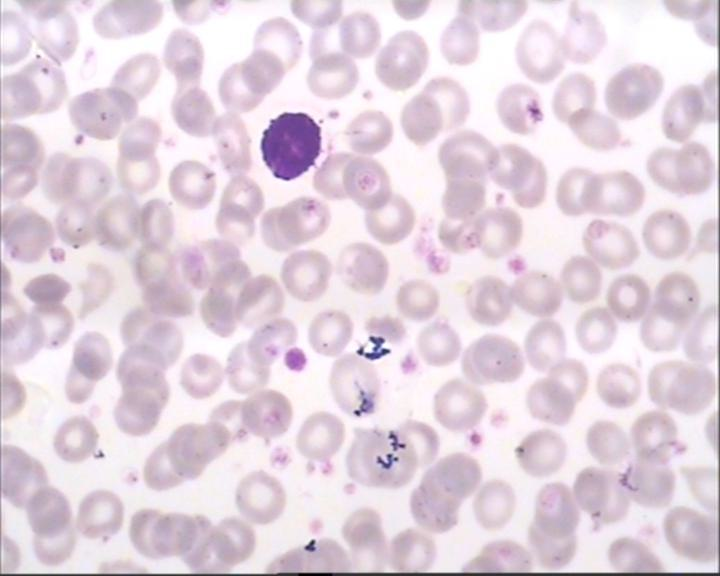baso: (251, 107, 328, 184)
